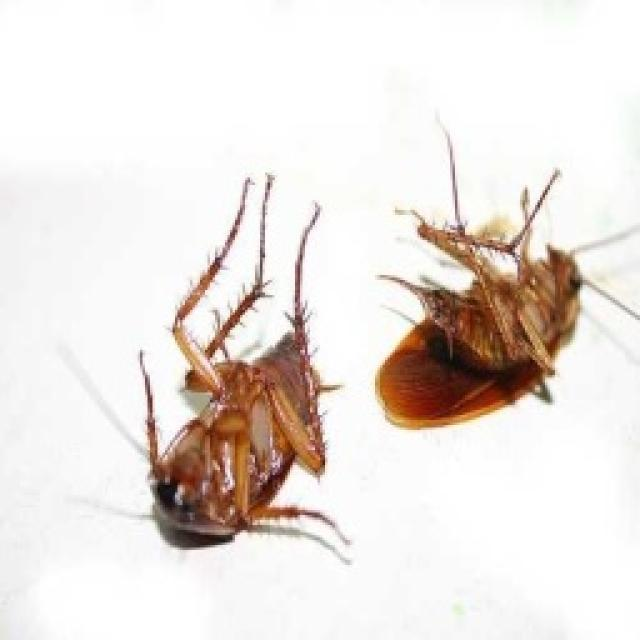cockroach: (136, 159, 363, 586), (365, 128, 628, 457)
